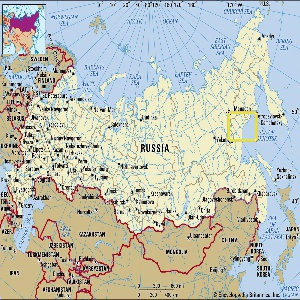square: (225, 110, 259, 142)
